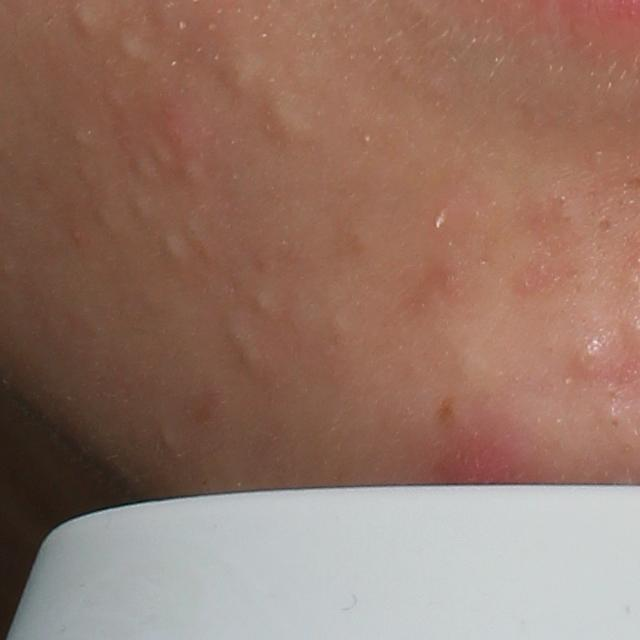comedo: (264, 97, 316, 146), (219, 52, 265, 100), (567, 337, 610, 381), (116, 29, 146, 63), (159, 234, 186, 270), (223, 316, 250, 351), (240, 346, 265, 374), (131, 155, 156, 182), (156, 427, 178, 455), (592, 214, 616, 239), (147, 142, 169, 169), (253, 289, 274, 315), (90, 208, 112, 232), (131, 196, 149, 221), (69, 128, 88, 149), (184, 161, 201, 184), (607, 415, 623, 435)
